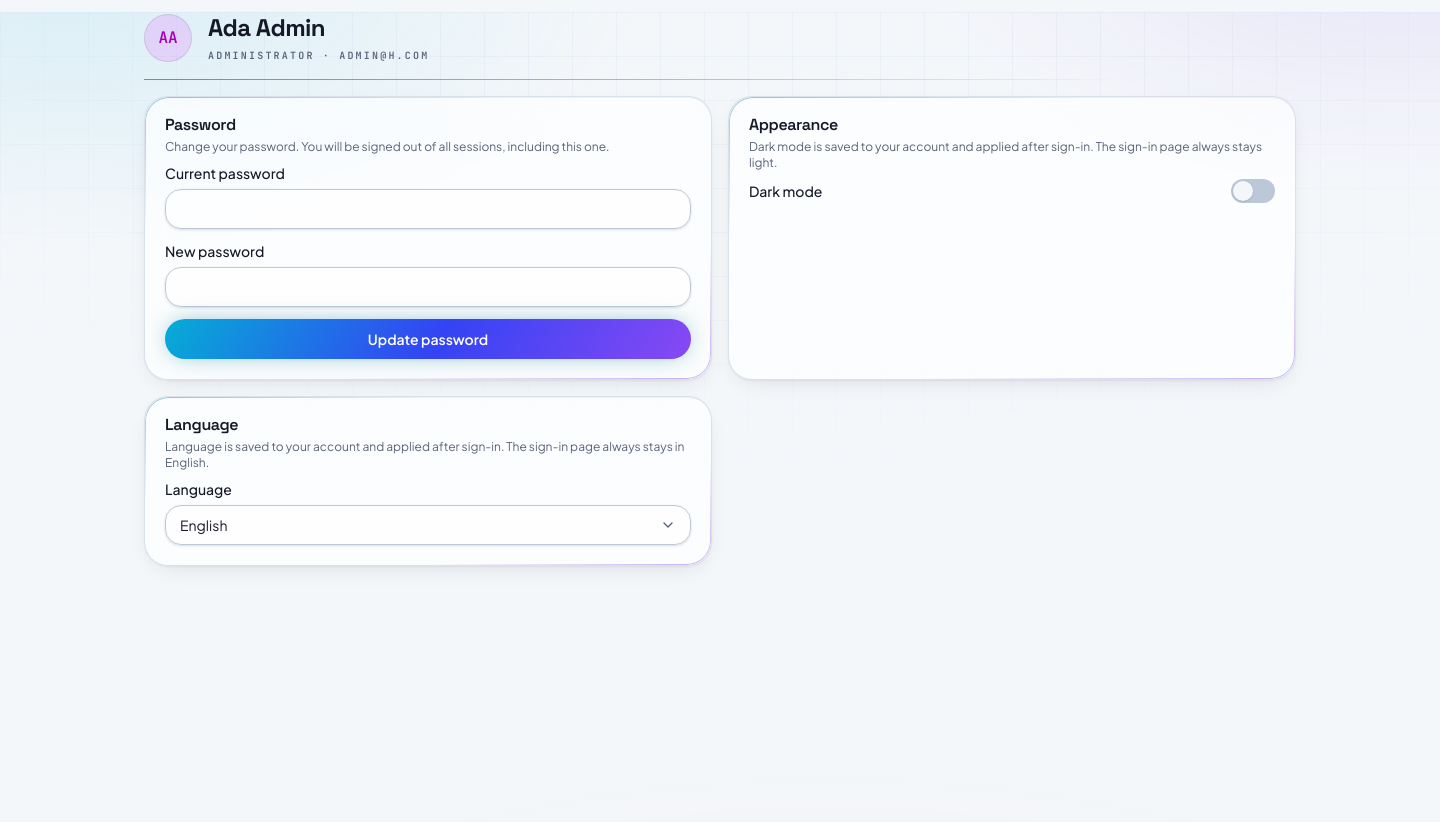
Scenario: ProfilePage change password › stays signed in and shows the error when the change fails
The image size is (1440, 822).
Step 1. Type "oldpass" into the password field with id "current" → (428, 209), box [165,189,691,229]
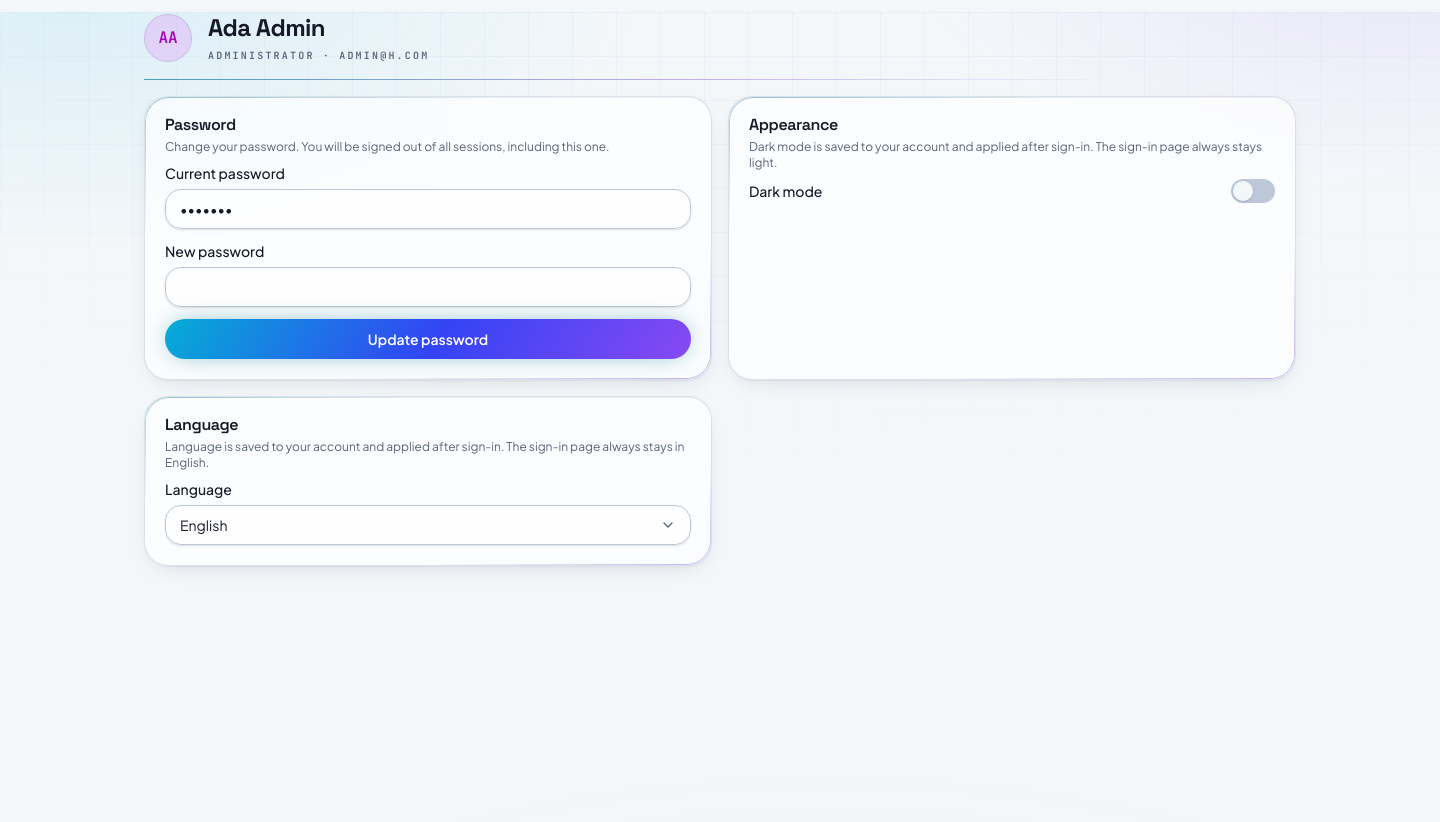
Step 2. Type "newpass" into the password field with id "new" → (428, 287), box [165,267,691,307]
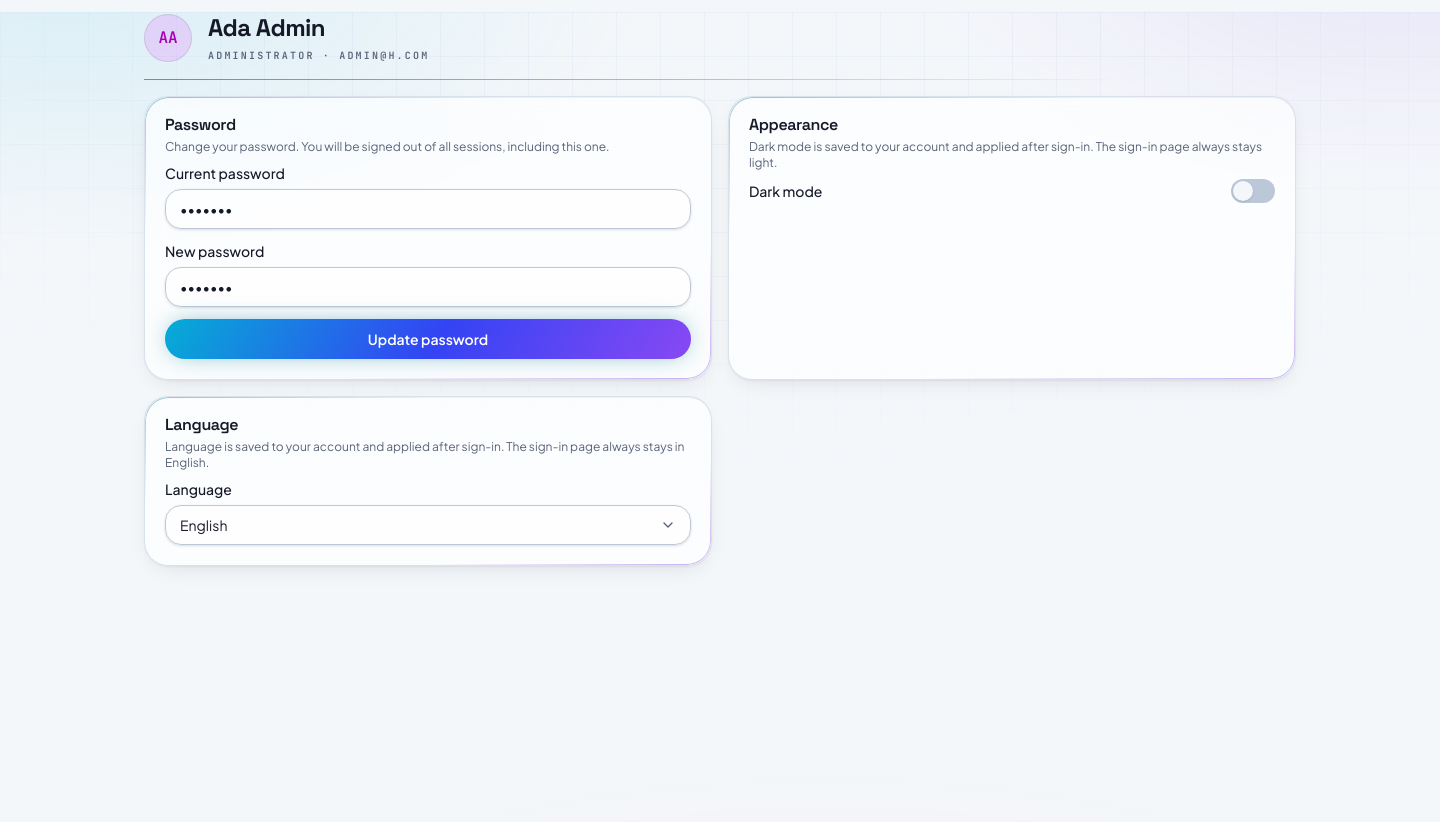
Step 3. Submit the form, box [165,163,691,359]
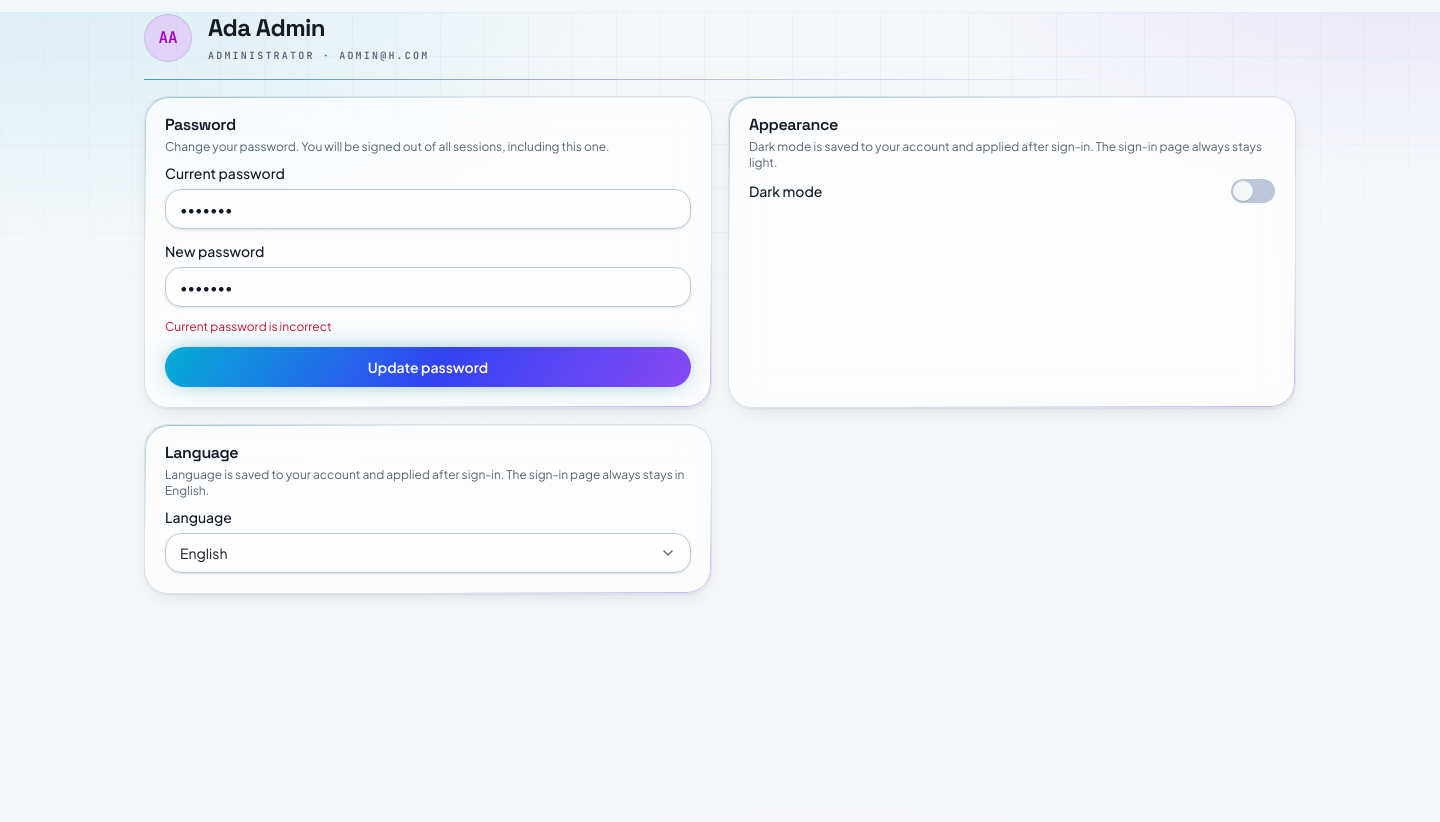
Expected: the message "Current password is incorrect" is shown, [165,319,332,334]
